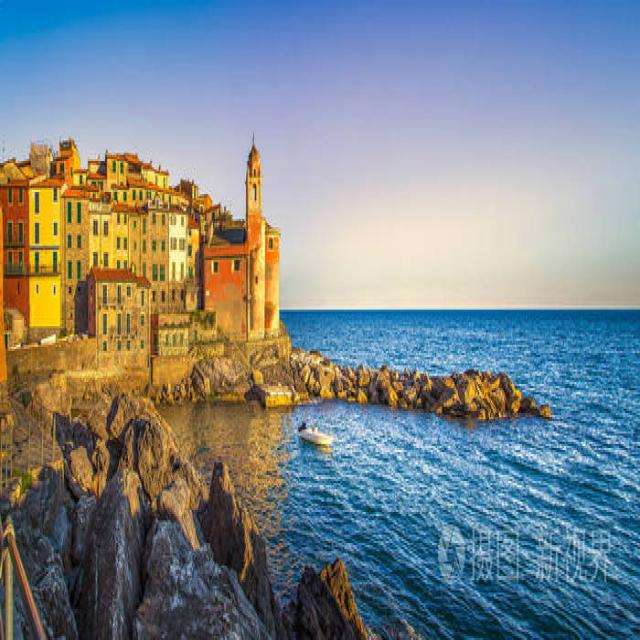reef: (316, 330, 561, 410)
